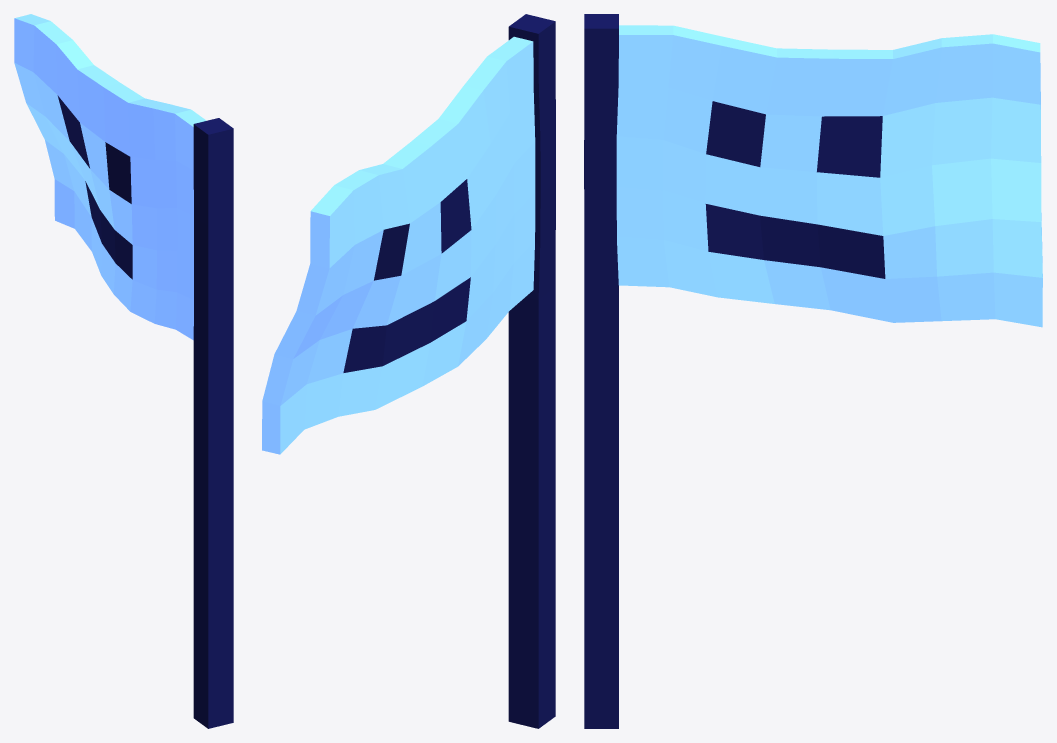
Rendered from ufo flag blue.fbx.
3 views of the same model, side by side, from view 1: azimuth 30°, elevation 25°; view 2: azimuth 150°, elevation 25°; view 3: azimuth 270°, elevation 25° (orthographic). The views are drawn at different scales.
Visible parts, largest first — view 1: Cube; view 2: Cube; view 3: Cube.
Part boxes in pixels (bbox=[...]): Cube: bbox=[14, 14, 233, 728]; Cube: bbox=[262, 14, 555, 728]; Cube: bbox=[584, 14, 1042, 728].
Size of the model in its own units: 20.73 by 200 by 119.
